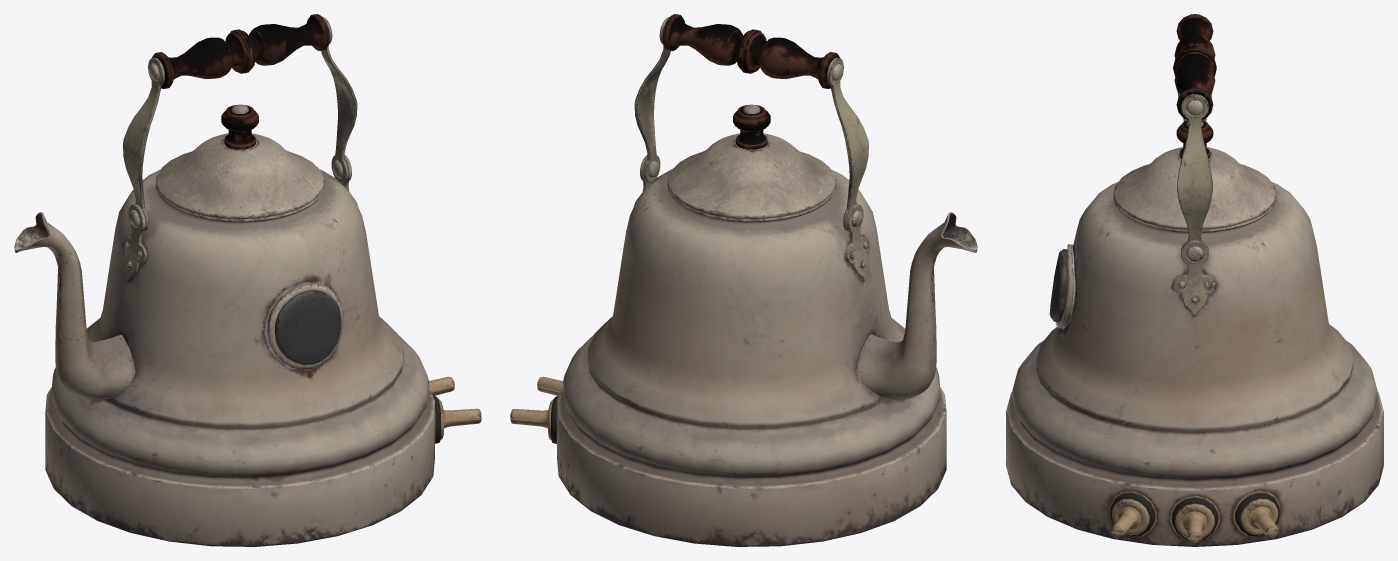
The model's file is vintage_electric_kettle.glb.
The picture shows the model from 3 angles, left to right: view 1: azimuth 30°, elevation 25°; view 2: azimuth 150°, elevation 25°; view 3: azimuth 270°, elevation 25°; orthographic projection. The views are drawn at different scales.
Parts seen in each view (by area): view 1: vintage_electric_kettle; view 2: vintage_electric_kettle; view 3: vintage_electric_kettle.
Part boxes in pixels (bbox=[...]): vintage_electric_kettle: bbox=[14, 14, 481, 546]; vintage_electric_kettle: bbox=[510, 14, 977, 546]; vintage_electric_kettle: bbox=[1006, 14, 1383, 546].
Bounding box in the file's own units: 0.3209 × 0.3047 × 0.2486.
Materials: 2 (2 with a texture image).
